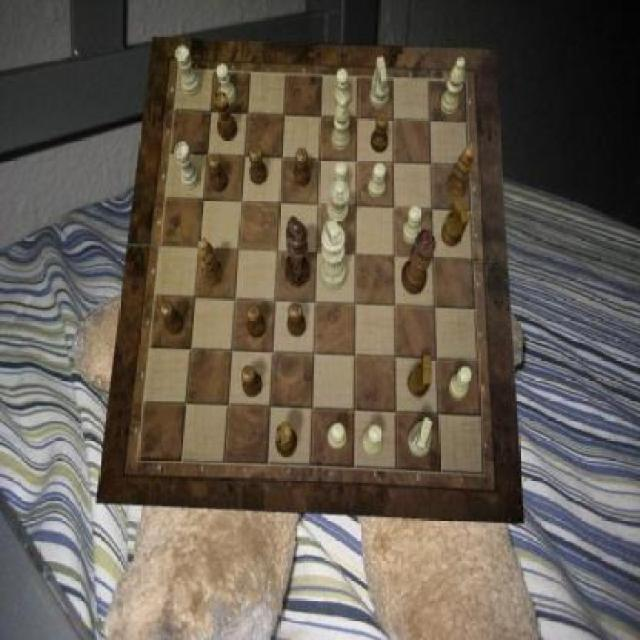bishop: (446, 146, 474, 200), (199, 237, 223, 286)
black-bishop: (284, 217, 310, 289)
black-king: (443, 198, 471, 248), (408, 355, 432, 398)
black-knight: (160, 302, 184, 336), (208, 154, 228, 192), (250, 146, 268, 185), (286, 303, 306, 338), (248, 304, 268, 338), (294, 148, 311, 188), (371, 114, 388, 154), (242, 366, 262, 399)
black-pawn: (401, 229, 437, 295)
black-queen: (214, 91, 238, 140), (275, 422, 298, 458)
black-rook: (440, 57, 465, 115), (331, 96, 351, 152)
white-bishop: (320, 220, 347, 291)
white-king: (371, 57, 391, 109), (409, 418, 434, 458)
white-knight: (217, 63, 237, 105), (450, 366, 472, 400), (403, 206, 422, 244), (363, 425, 383, 457), (336, 69, 352, 109), (368, 163, 385, 199), (331, 162, 348, 196), (328, 423, 348, 449)
white-pawn: (323, 180, 351, 251)
white-queen: (177, 45, 201, 97), (175, 143, 200, 191)
